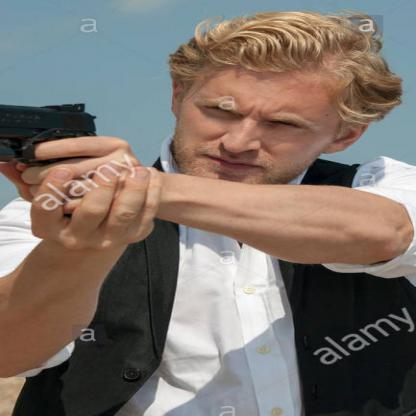gun: (0, 87, 106, 165)
